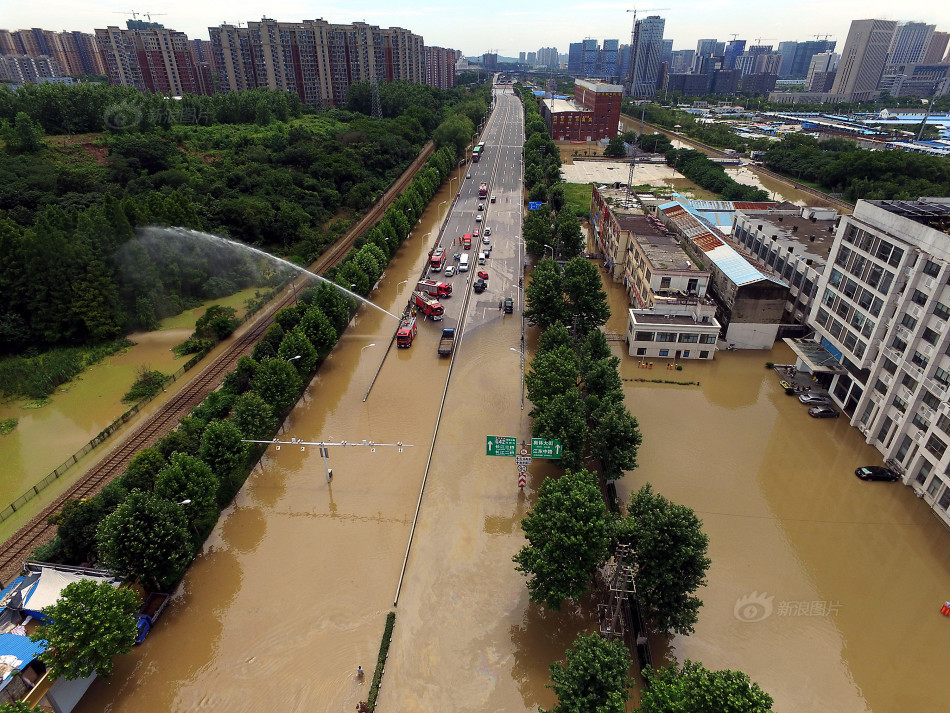puddle: (276, 354, 538, 713), (663, 388, 920, 713)
